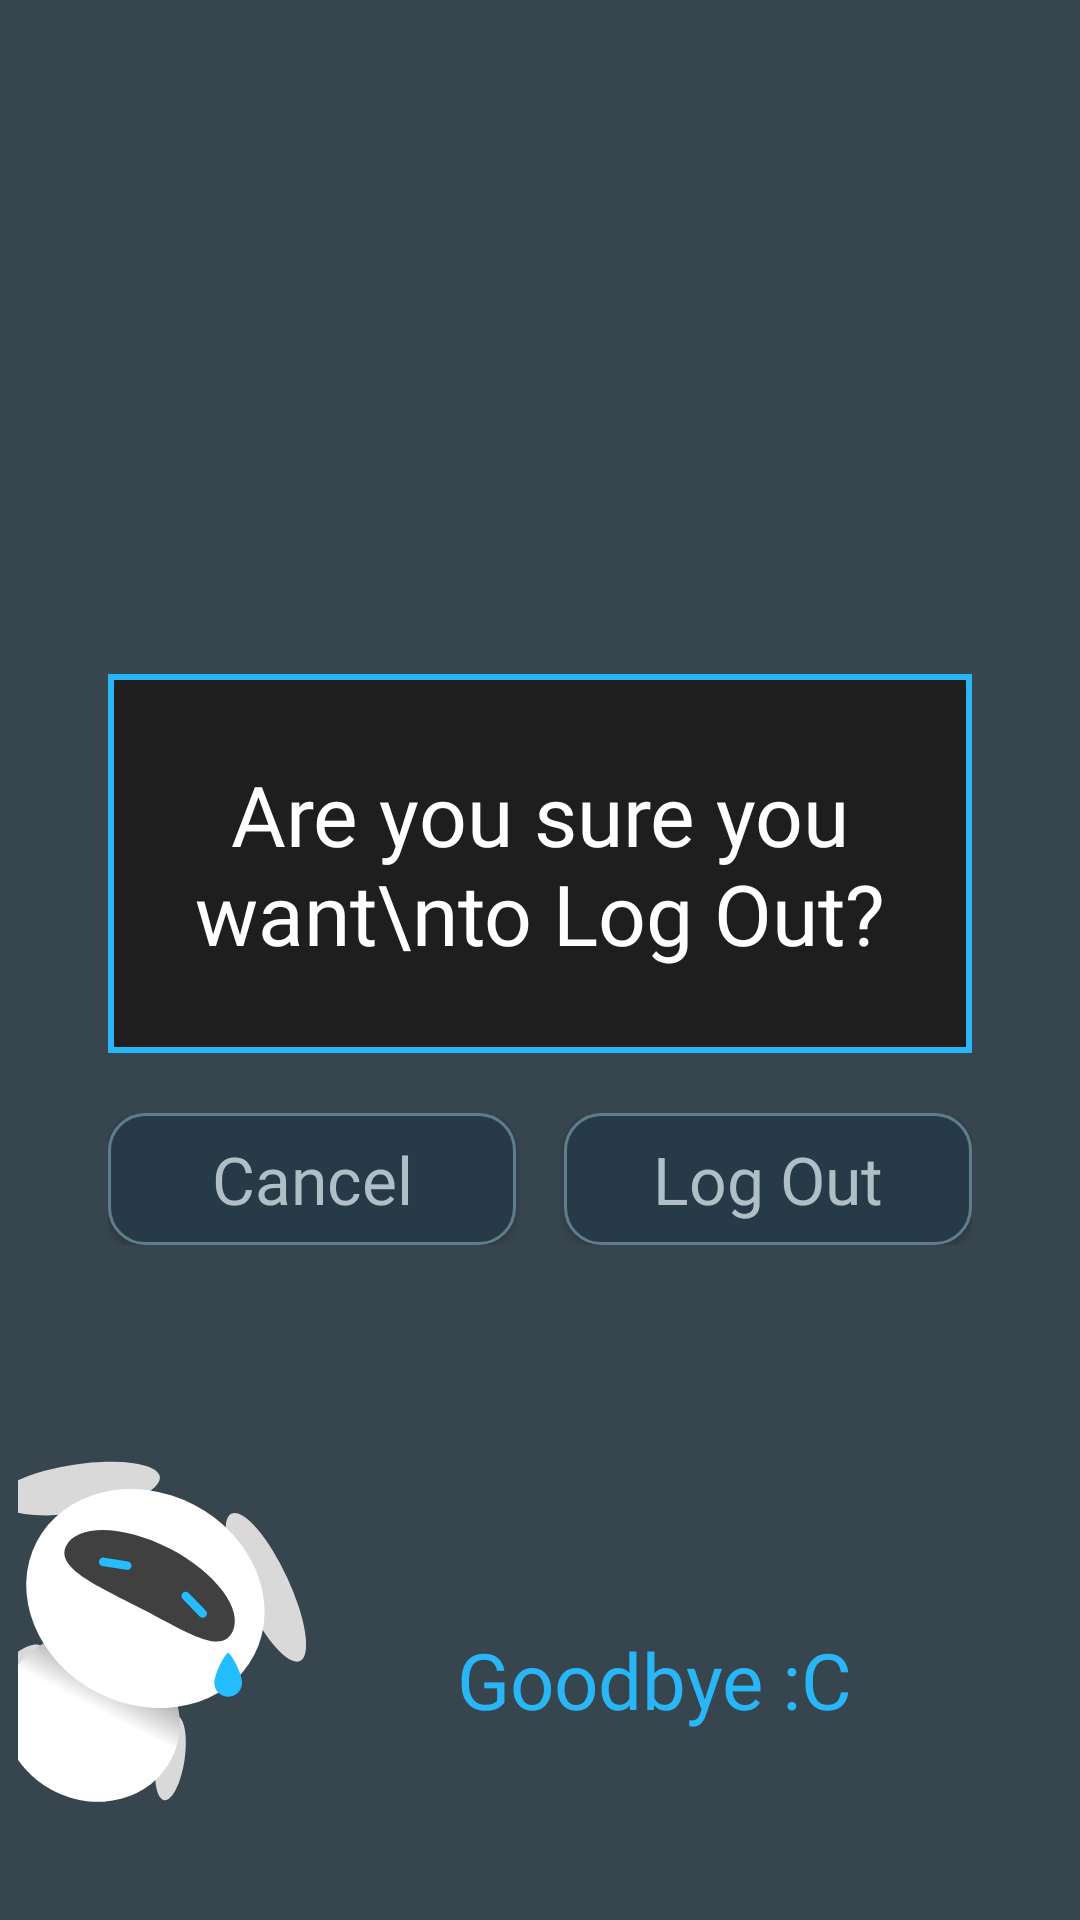

Screen size 1080px×1920px. Icon name, then its center in pixels as (x=x, y=y):
attendlysad: (x=162, y=1631)
